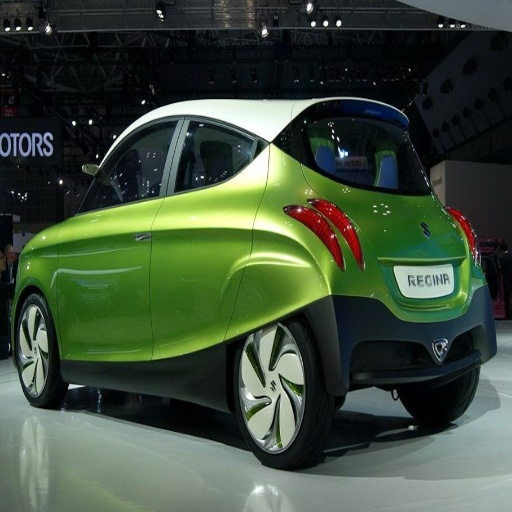back_bumper: (304, 291, 488, 395)
back_glass: (351, 123, 429, 194)
back_left_door: (167, 115, 248, 192)
back_left_light: (289, 205, 364, 269)
back_right_door: (301, 113, 367, 201)
tailgate: (354, 194, 466, 308)
trunk: (51, 214, 150, 322), (154, 266, 220, 320)
